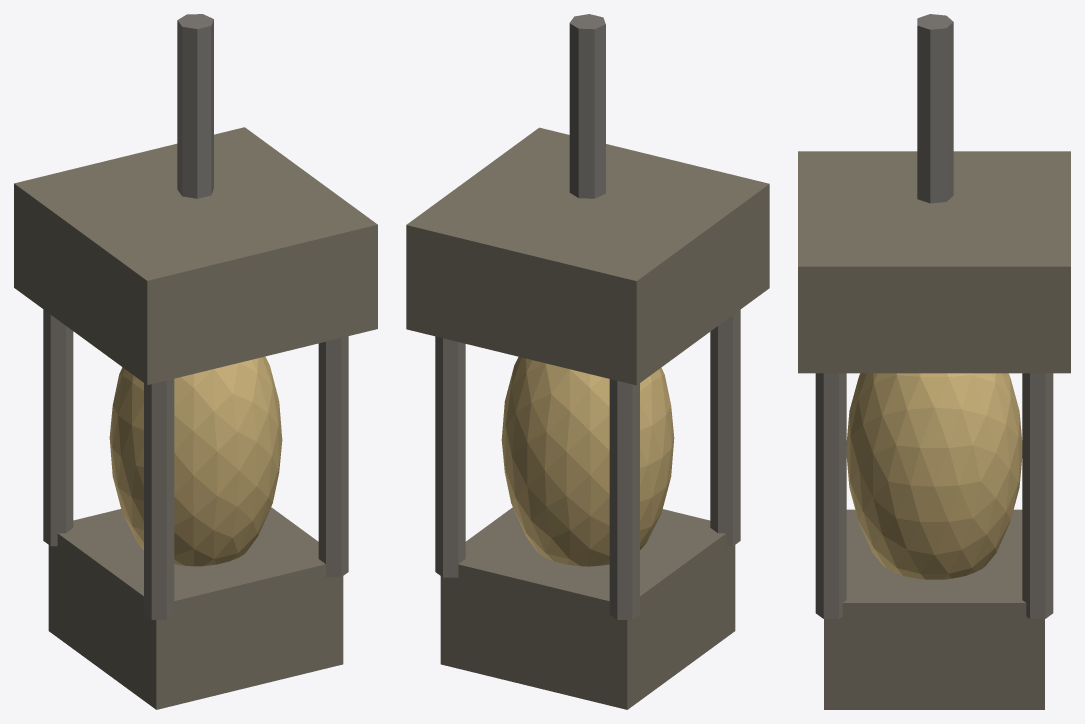
File: hanging_lantern.glb
3 views of the same model, side by side, from view 1: azimuth 30°, elevation 25°; view 2: azimuth 150°, elevation 25°; view 3: azimuth 270°, elevation 25° (orthographic). The views are drawn at different scales.
Visible parts, largest first — view 1: hanging_lantern_1, hanging_lantern_0, hanging_lantern_2, hanging_lantern_4, hanging_lantern_6, hanging_lantern_3, hanging_lantern_7; view 2: hanging_lantern_1, hanging_lantern_0, hanging_lantern_2, hanging_lantern_3, hanging_lantern_5, hanging_lantern_4, hanging_lantern_7; view 3: hanging_lantern_1, hanging_lantern_2, hanging_lantern_0, hanging_lantern_5, hanging_lantern_6, hanging_lantern_7.
Part boxes in pixels (box(x1,y1,x2,y2)): hanging_lantern_1: box(14, 127, 377, 385); hanging_lantern_0: box(48, 507, 343, 709); hanging_lantern_2: box(109, 356, 282, 566); hanging_lantern_4: box(144, 379, 174, 619); hanging_lantern_6: box(318, 336, 348, 577); hanging_lantern_3: box(43, 309, 73, 546); hanging_lantern_7: box(177, 14, 213, 198); hanging_lantern_1: box(406, 127, 769, 385); hanging_lantern_0: box(440, 507, 735, 709); hanging_lantern_2: box(501, 357, 674, 566); hanging_lantern_3: box(609, 379, 639, 619); hanging_lantern_5: box(435, 336, 465, 577); hanging_lantern_4: box(710, 309, 740, 546); hanging_lantern_7: box(569, 14, 605, 198); hanging_lantern_1: box(798, 151, 1070, 373); hanging_lantern_2: box(846, 373, 1022, 579); hanging_lantern_0: box(824, 509, 1044, 709); hanging_lantern_5: box(1022, 373, 1053, 618); hanging_lantern_6: box(815, 373, 846, 618); hanging_lantern_7: box(917, 14, 953, 203).
Bounding box in the file's own units: 0.37 × 0.96 × 0.37.
